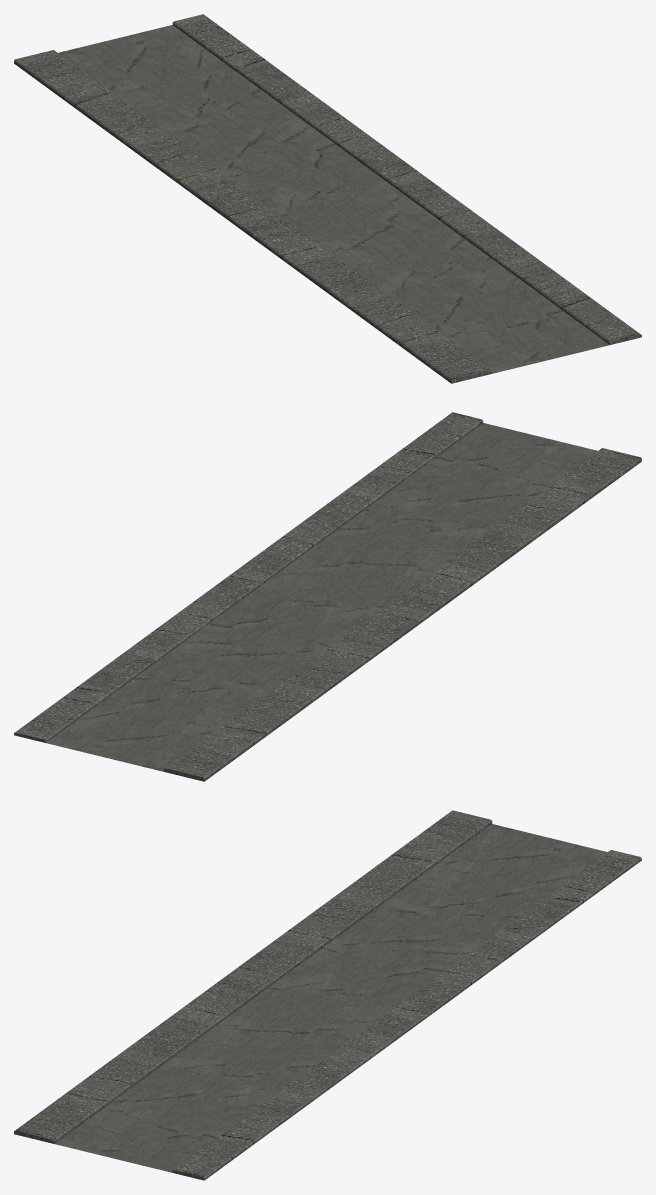
Rendered from Road.fbx.
3 renders of one model, top to bottom at view 1: azimuth 30°, elevation 25°; view 2: azimuth 150°, elevation 25°; view 3: azimuth 330°, elevation 25°, orthographic.
Parts seen in each view (by area): view 1: Sidewalk; view 2: Sidewalk; view 3: Sidewalk.
Part boxes in pixels (bbox=[...]): Sidewalk: bbox=[14, 14, 641, 383]; Sidewalk: bbox=[14, 412, 641, 781]; Sidewalk: bbox=[14, 810, 641, 1180].
Bounding box in the file's own units: 2514 × 50 × 10000.
